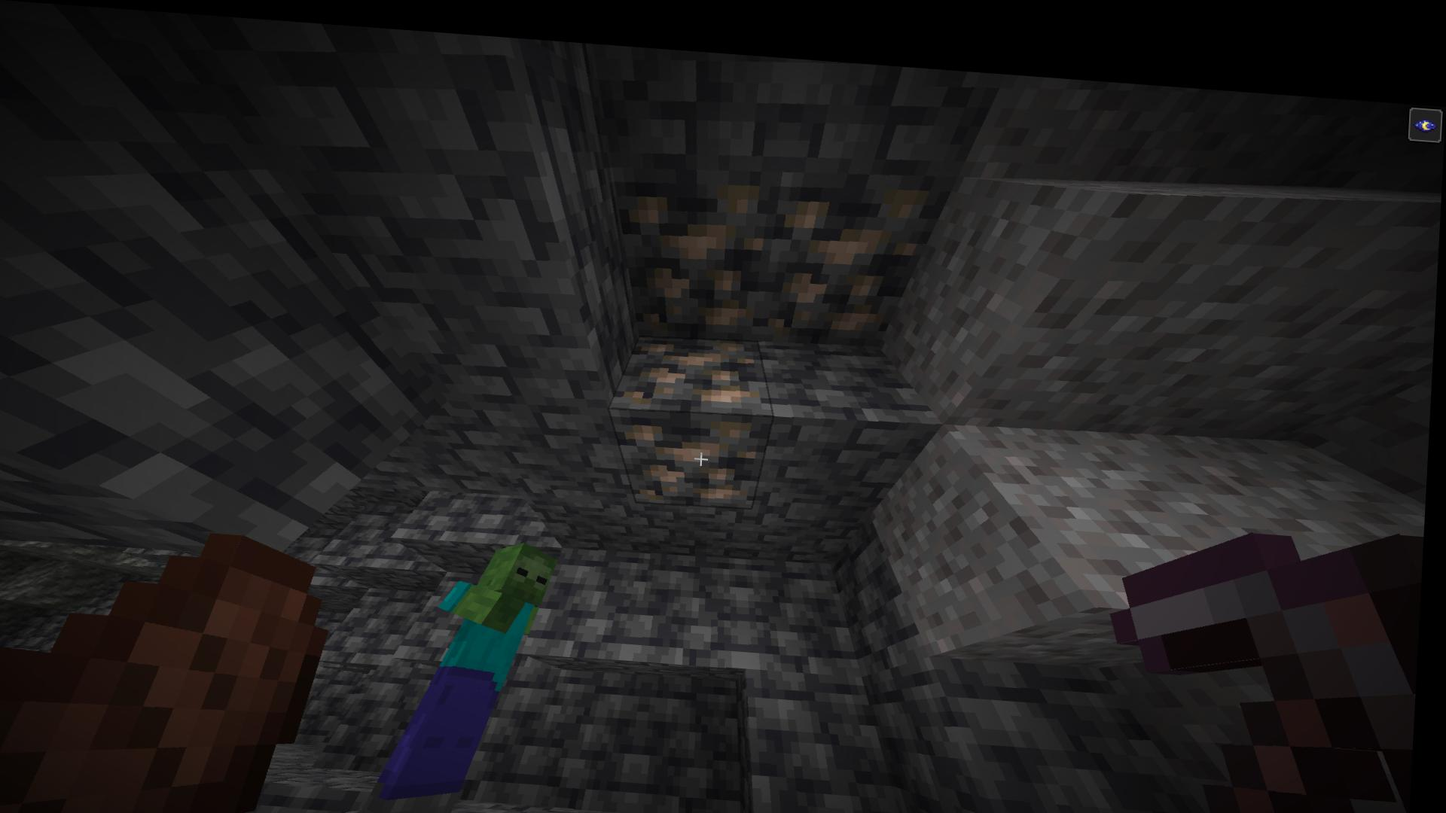iron ore: (765, 171, 926, 336), (618, 165, 771, 331), (625, 400, 771, 504), (620, 321, 778, 403)
